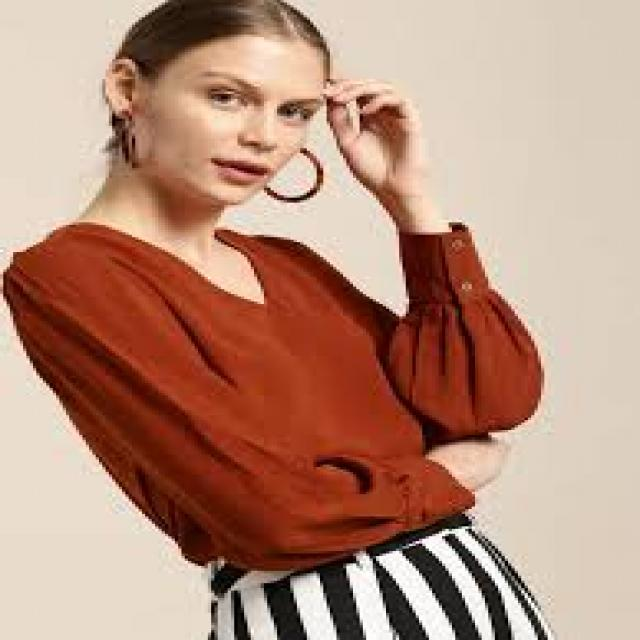plain: (11, 210, 548, 549)
